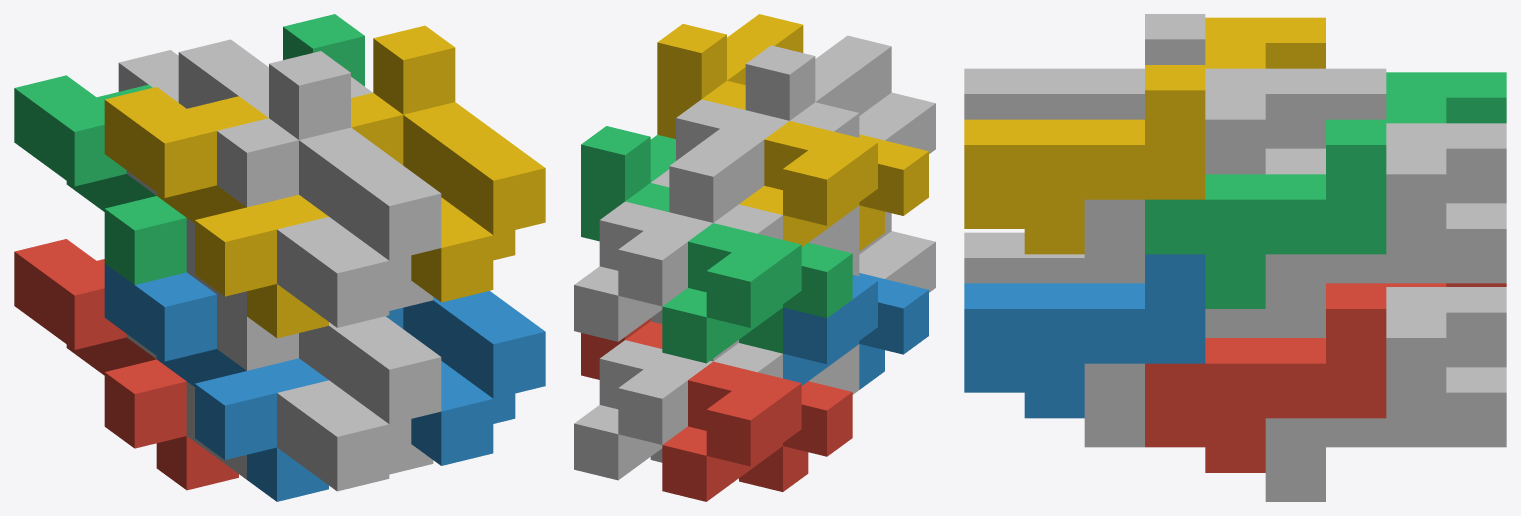
Rendered from tiling.obj.
The picture shows the model from 3 angles, left to right: view 1: azimuth 30°, elevation 25°; view 2: azimuth 150°, elevation 25°; view 3: azimuth 270°, elevation 25°; orthographic projection. The views are drawn at different scales.
Visible parts, largest first — view 1: copy_2_domain_4, copy_2_domain_8, copy_2_domain_2, copy_1_domain_4, copy_1_domain_2, copy_1_domain_1, copy_2_domain_6, copy_1_domain_3, copy_2_domain_3, copy_1_domain_8, copy_2_domain_7, copy_1_domain_7 (+2 smaller); view 2: copy_1_domain_1, copy_1_domain_3, copy_1_domain_4, copy_2_domain_4, copy_1_domain_7, copy_1_domain_5, copy_1_domain_2, copy_2_domain_8, copy_2_domain_7, copy_2_domain_3, copy_1_domain_8, copy_2_domain_2 (+2 smaller); view 3: copy_2_domain_8, copy_2_domain_5, copy_2_domain_6, copy_1_domain_5, copy_1_domain_7, copy_2_domain_7, copy_1_domain_8, copy_2_domain_4, copy_1_domain_6, copy_1_domain_3, copy_1_domain_4, copy_2_domain_2 (+1 smaller).
Part boxes in pixels (x1=…): copy_2_domain_4: x1=217, y1=51, x2=441, y2=327; copy_2_domain_8: x1=351, y1=25, x2=545, y2=302; copy_2_domain_2: x1=217, y1=295, x2=441, y2=491; copy_1_domain_4: x1=104, y1=87, x2=328, y2=338; copy_1_domain_2: x1=104, y1=263, x2=328, y2=501; copy_1_domain_1: x1=14, y1=239, x2=238, y2=490; copy_2_domain_6: x1=386, y1=291, x2=545, y2=465; copy_1_domain_3: x1=14, y1=75, x2=186, y2=284; copy_2_domain_3: x1=126, y1=39, x2=260, y2=315; copy_1_domain_8: x1=209, y1=61, x2=433, y2=310; copy_2_domain_7: x1=283, y1=14, x2=364, y2=86; copy_1_domain_7: x1=118, y1=50, x2=178, y2=102; copy_1_domain_1: x1=662, y1=361, x2=852, y2=501; copy_1_domain_3: x1=662, y1=223, x2=852, y2=363; copy_1_domain_4: x1=739, y1=121, x2=928, y2=251; copy_2_domain_4: x1=745, y1=35, x2=935, y2=153; copy_1_domain_7: x1=574, y1=201, x2=712, y2=341; copy_1_domain_5: x1=574, y1=340, x2=712, y2=480; copy_1_domain_2: x1=783, y1=273, x2=928, y2=389; copy_2_domain_8: x1=657, y1=14, x2=803, y2=139; copy_2_domain_7: x1=581, y1=126, x2=675, y2=241; copy_2_domain_3: x1=669, y1=147, x2=859, y2=255; copy_1_domain_8: x1=651, y1=99, x2=789, y2=203; copy_2_domain_2: x1=852, y1=211, x2=935, y2=292; copy_2_domain_8: x1=964, y1=65, x2=1205, y2=254; copy_2_domain_5: x1=1145, y1=283, x2=1386, y2=472; copy_2_domain_6: x1=964, y1=254, x2=1205, y2=418; copy_1_domain_5: x1=1265, y1=287, x2=1506, y2=501; copy_1_domain_7: x1=1265, y1=123, x2=1506, y2=337; copy_2_domain_7: x1=1145, y1=119, x2=1386, y2=308; copy_1_domain_8: x1=1084, y1=68, x2=1325, y2=283; copy_2_domain_4: x1=964, y1=14, x2=1205, y2=119; copy_1_domain_6: x1=1084, y1=309, x2=1265, y2=447; copy_1_domain_3: x1=1386, y1=72, x2=1506, y2=123; copy_1_domain_4: x1=1205, y1=17, x2=1325, y2=68; copy_2_domain_2: x1=964, y1=232, x2=1084, y2=283.
Bounding box in the file's own units: 5 × 8 × 9.
